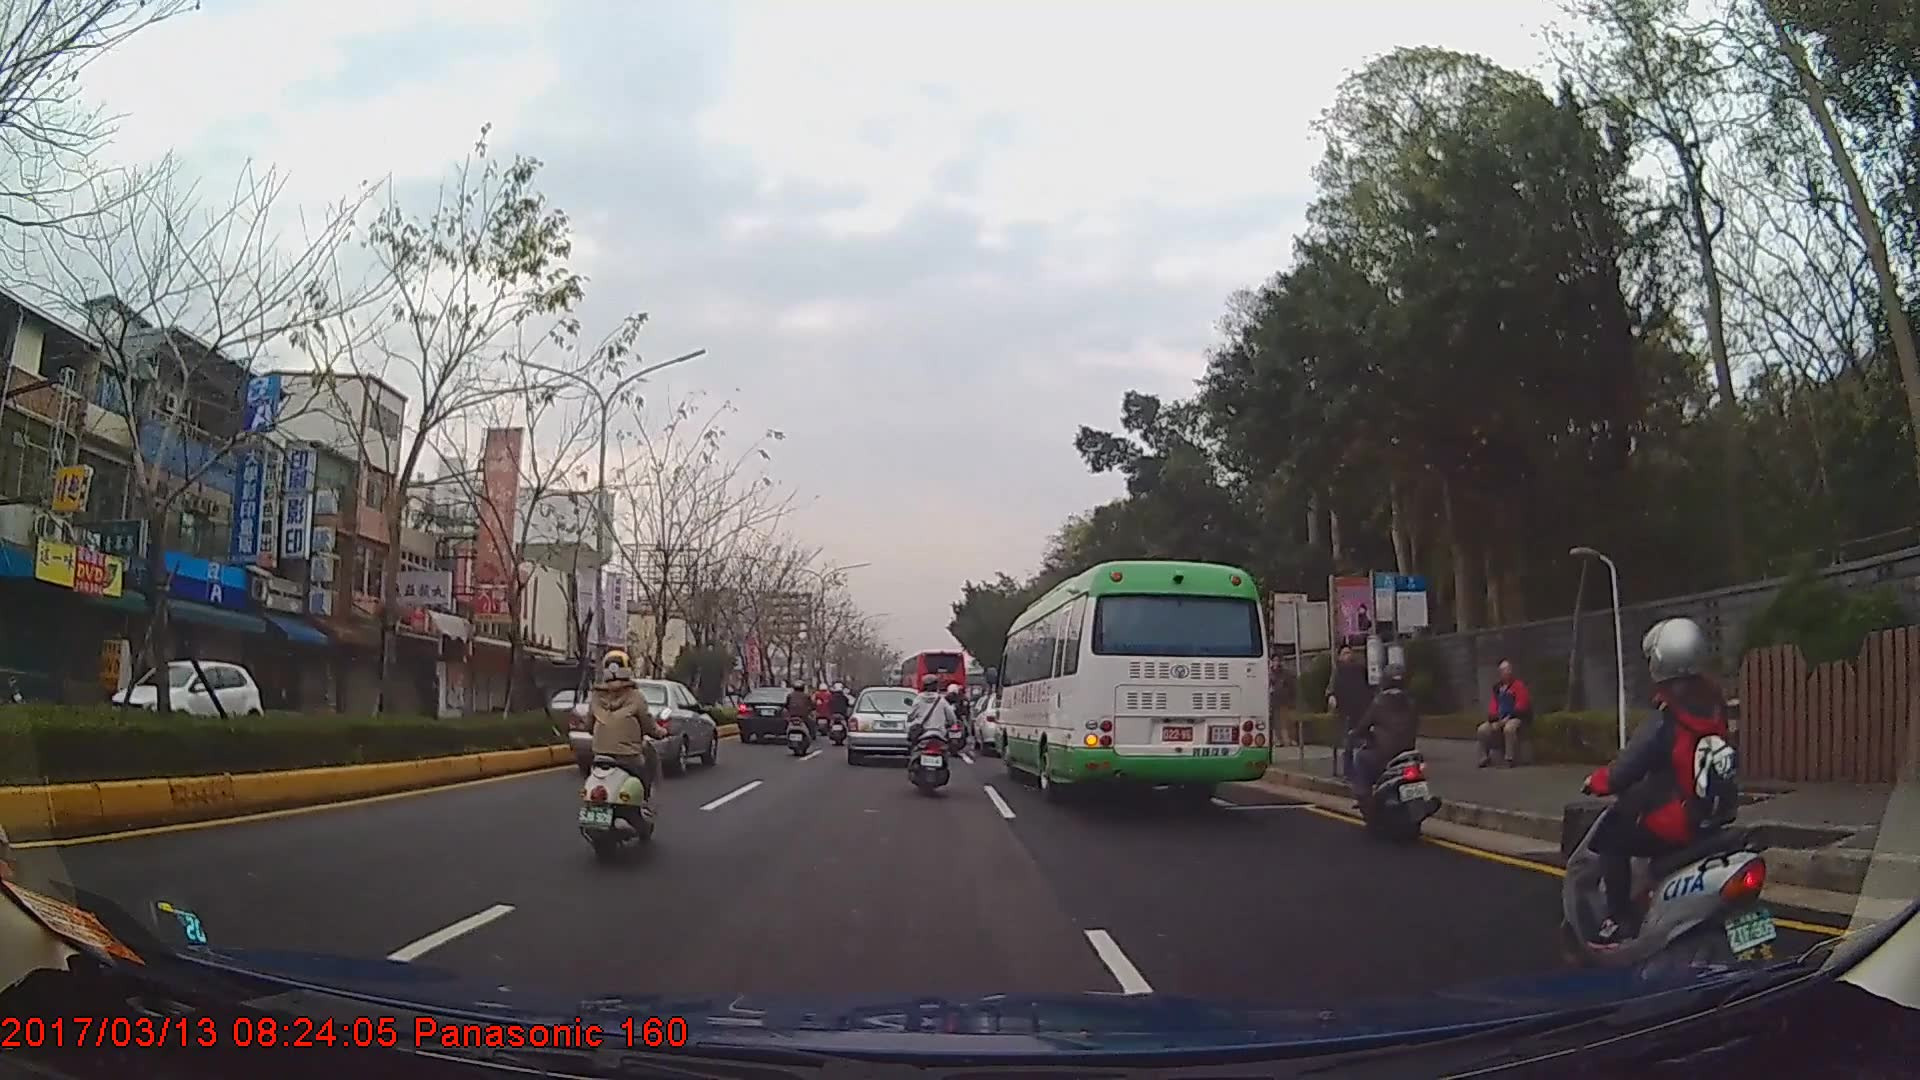pedestrian: (1326, 645, 1377, 783), (1478, 657, 1534, 770), (1267, 651, 1297, 749)
rider: (1561, 613, 1774, 977), (584, 647, 669, 863), (1346, 661, 1436, 847), (909, 675, 961, 795), (787, 679, 820, 757), (942, 681, 973, 739), (828, 683, 852, 746), (815, 683, 835, 737)
vehicle: (992, 559, 1271, 800), (566, 678, 716, 773), (103, 654, 264, 736), (844, 685, 929, 762), (901, 647, 971, 717), (736, 684, 816, 745)
